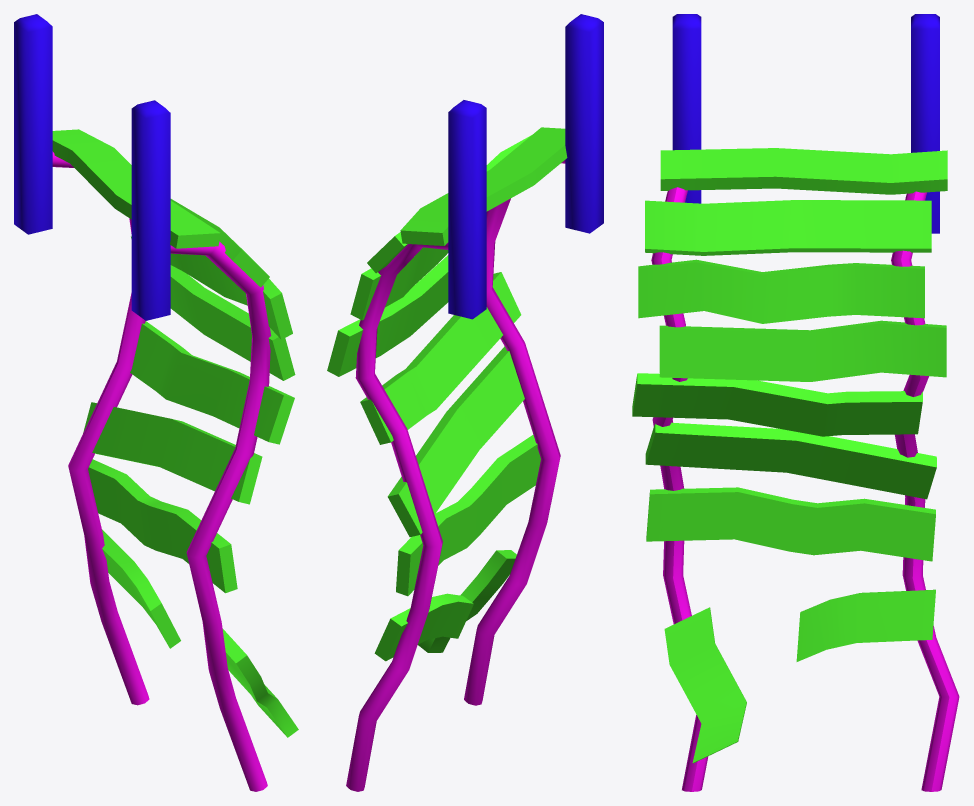
File: Pont_LP.FBX
3 renders of one model, left to right at view 1: azimuth 30°, elevation 25°; view 2: azimuth 150°, elevation 25°; view 3: azimuth 270°, elevation 25°, orthographic.
Parts seen in each view (by area): view 1: Line002; view 2: Line002; view 3: Line002.
Part boxes in pixels (left/top/right/bottom): Line002: left=14, top=14, right=298, bottom=791; Line002: left=327, top=14, right=603, bottom=791; Line002: left=632, top=14, right=959, bottom=791.
Bounding box in the file's own units: 133 × 557 × 228.
